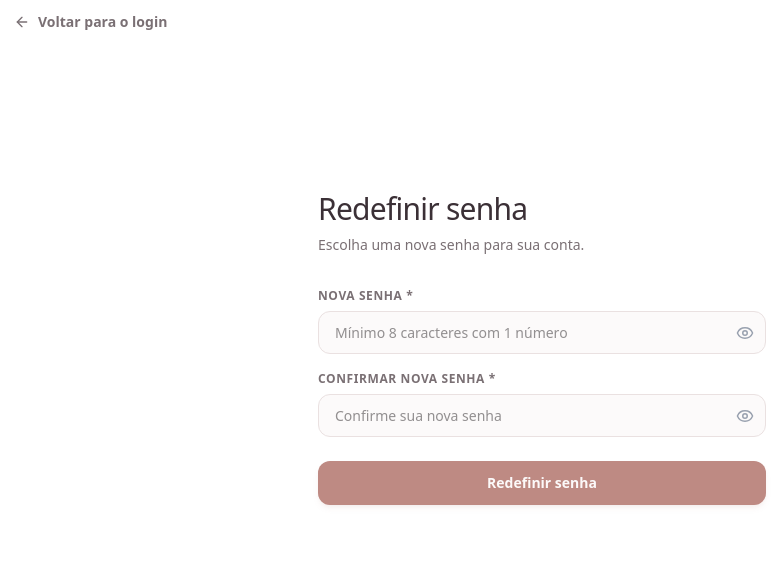
ResetPassword › shows an error message when the token is invalid or expired
Step 1. Type "NewPass123" into the password field with placeholder "Mínimo 8 caracteres com 1 número" → (542, 332), box [318,311,766,354]
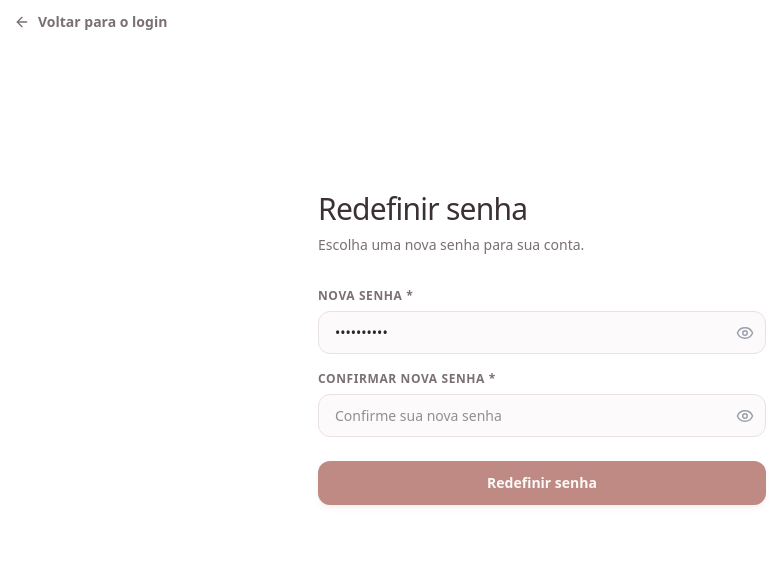
Step 2. Type "NewPass123" into the password field with placeholder "Confirme sua nova senha" → (542, 416), box [318,394,766,437]
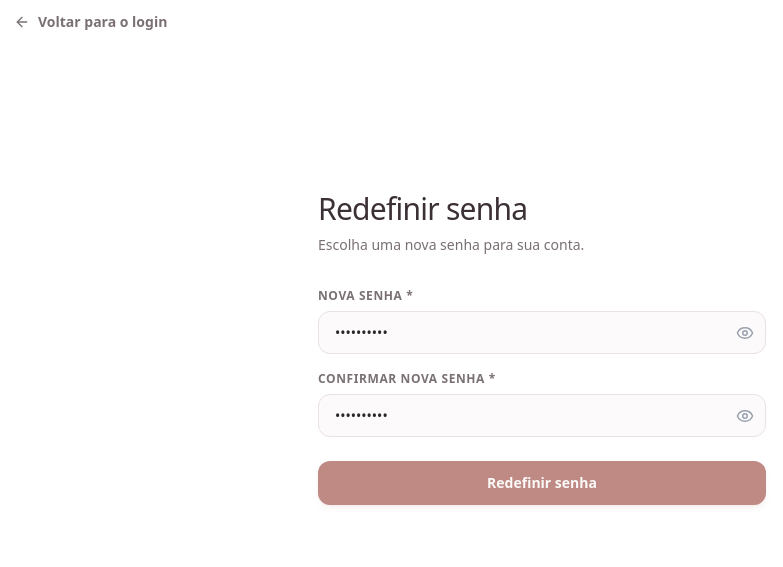
Step 3. Click the button "Redefinir senha" → (542, 483), box [318,461,766,505]
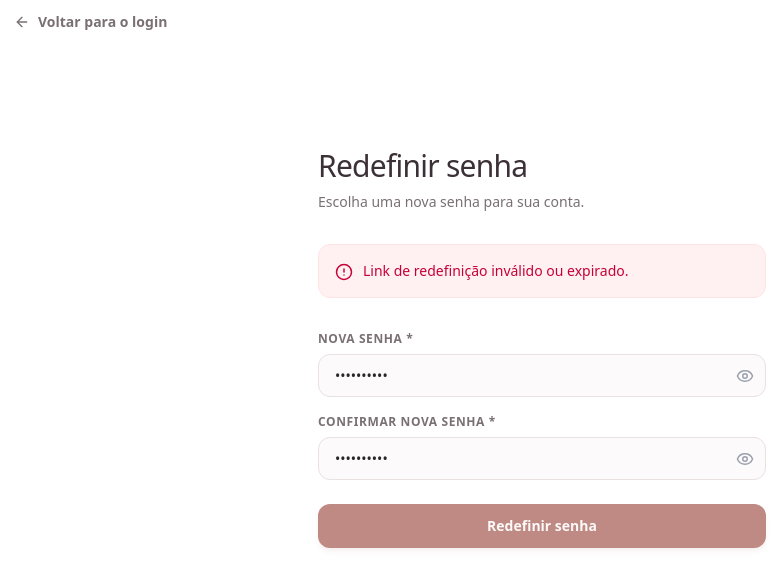
Result: the text "Link de redefinição inválido ou expirado." is shown at [363,261,628,281]
